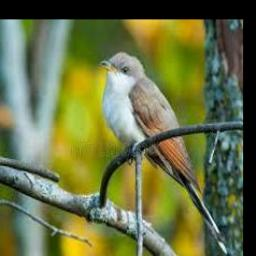Cuckoo: (100, 51, 229, 253)
